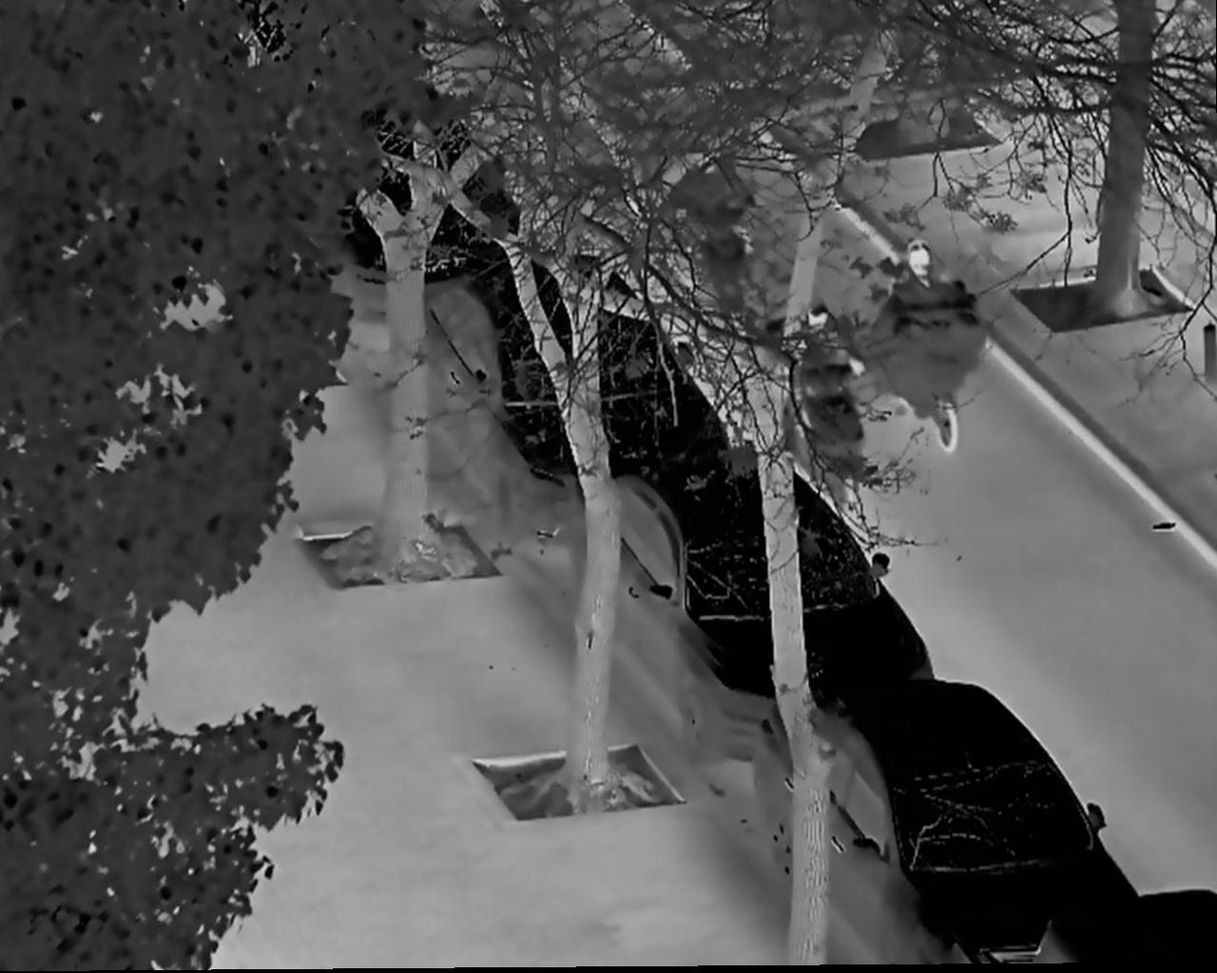person: (782, 308, 879, 446), (889, 243, 972, 386)
